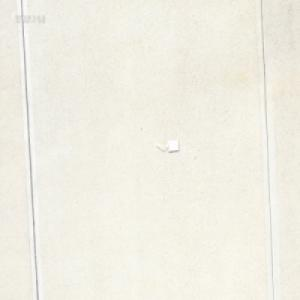LuggageTag: (154, 138, 179, 154)
